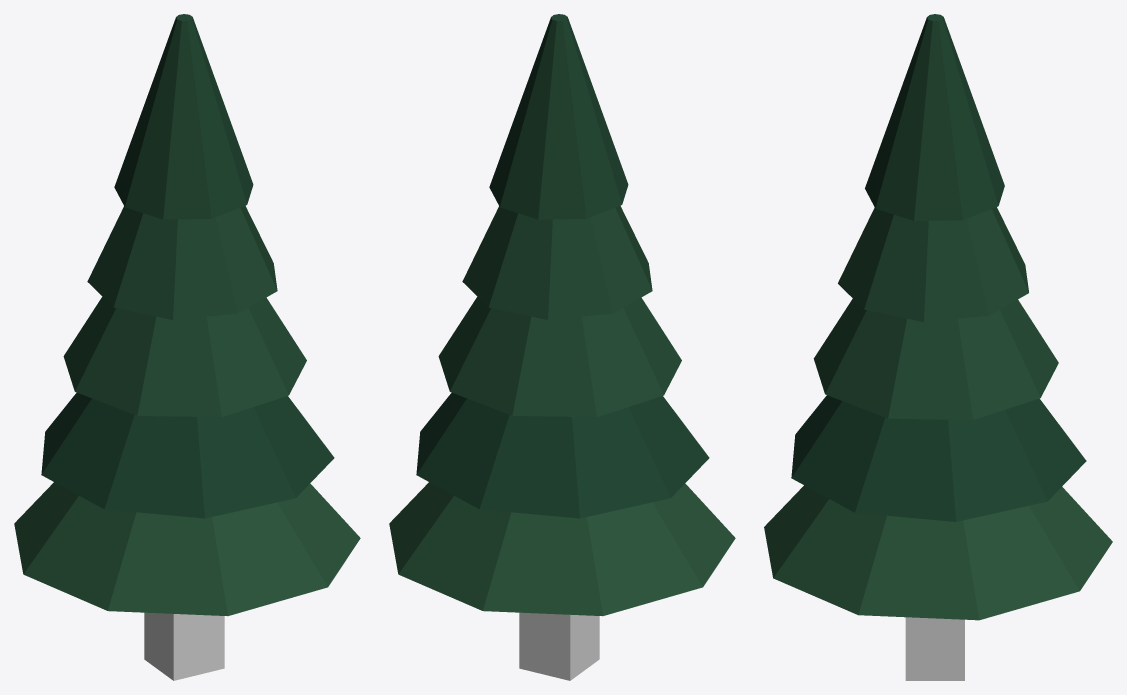
File: abeto_nevado_2.glb
3 views of the same model, side by side, from view 1: azimuth 30°, elevation 25°; view 2: azimuth 150°, elevation 25°; view 3: azimuth 270°, elevation 25° (orthographic).
Parts seen in each view (by area): view 1: abeto_nevado_2_Malla, COL_0; view 2: abeto_nevado_2_Malla, COL_0; view 3: abeto_nevado_2_Malla, COL_0.
Boxes of the visible parts, x1=… form: abeto_nevado_2_Malla: x1=14, y1=14, x2=360, y2=616; COL_0: x1=144, y1=612, x2=224, y2=680; abeto_nevado_2_Malla: x1=389, y1=14, x2=735, y2=616; COL_0: x1=519, y1=612, x2=599, y2=680; abeto_nevado_2_Malla: x1=764, y1=14, x2=1112, y2=620; COL_0: x1=905, y1=617, x2=964, y2=680.
Size of the model in its own units: 4.71 by 9.68 by 4.7.
